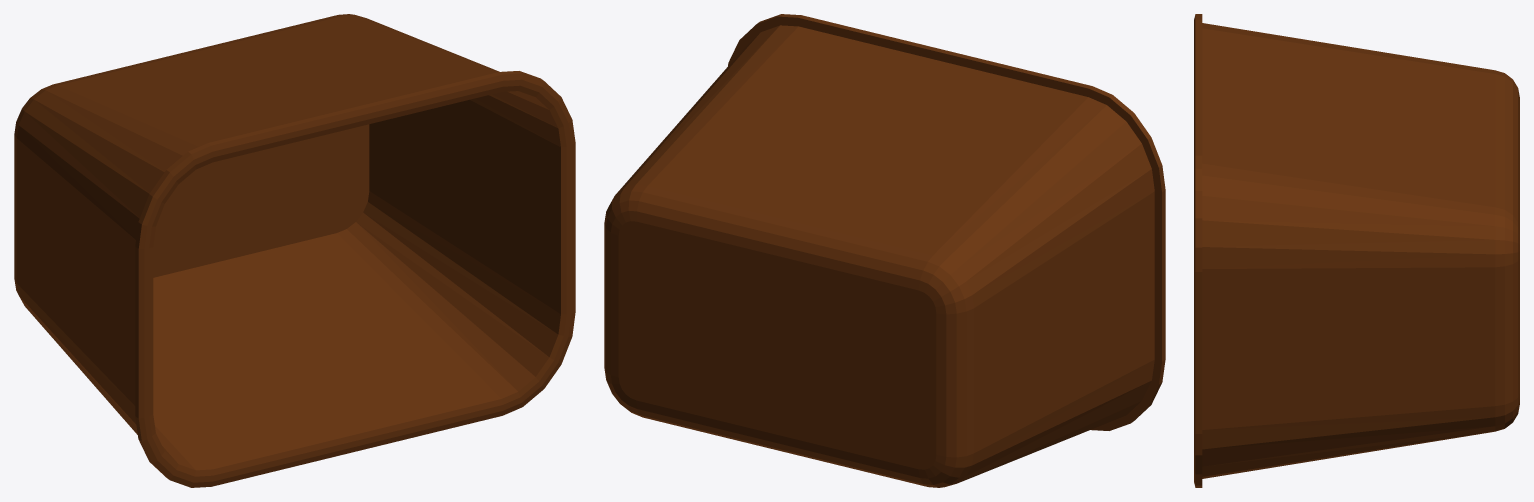
3 renders of one model, left to right at view 1: azimuth 30°, elevation 25°; view 2: azimuth 150°, elevation 25°; view 3: azimuth 270°, elevation 25°, orthographic. The views are drawn at different scales.
Parts seen in each view (by area): view 1: desk trashcan; view 2: desk trashcan; view 3: desk trashcan.
Part boxes in pixels (x1,y1,x2,y2): desk trashcan: (14,14,575,487); desk trashcan: (604,14,1165,487); desk trashcan: (1194,14,1519,487).
Bounding box in the file's own units: 17.85 × 13.32 × 12.05.
